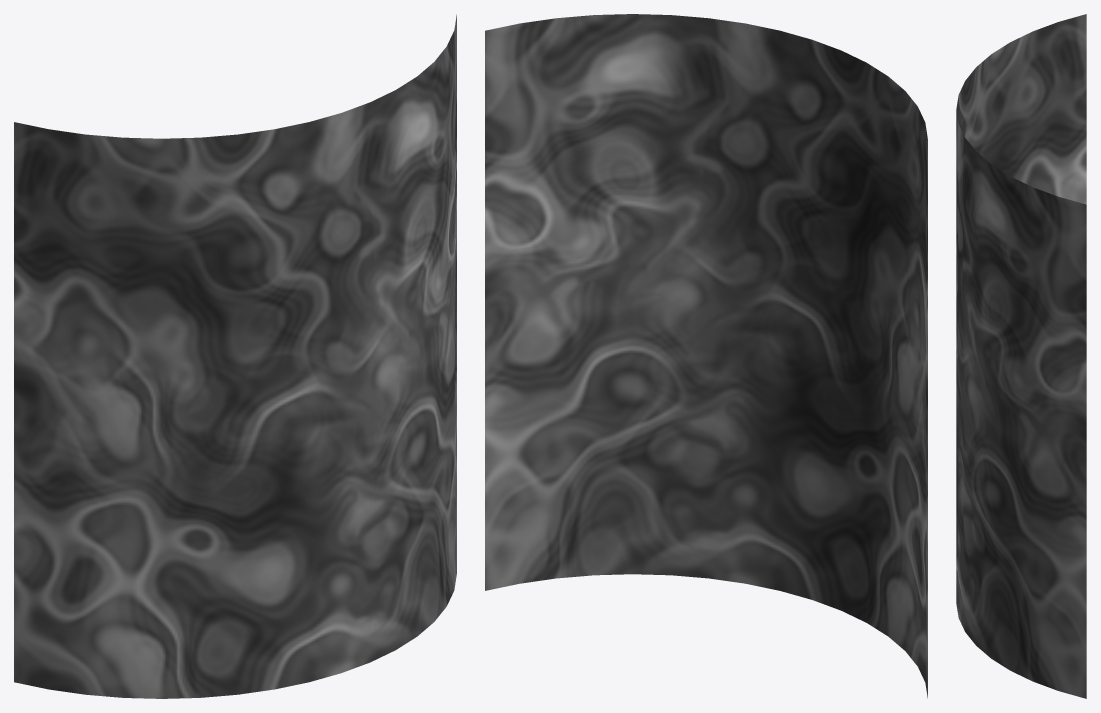
Rendered from SM_Shield.FBX.
3 renders of one model, left to right at view 1: azimuth 30°, elevation 25°; view 2: azimuth 150°, elevation 25°; view 3: azimuth 270°, elevation 25°, orthographic. The views are drawn at different scales.
Visible parts, largest first — view 1: Plane001; view 2: Plane001; view 3: Plane001.
Boxes of the visible parts, x1,y1,x2,y2 form: Plane001: (14,14,456,698); Plane001: (485,14,927,698); Plane001: (956,14,1086,698).
Size of the model in its own units: 41.35 by 11.94 by 50.
